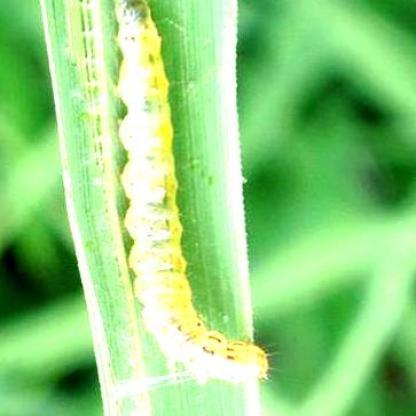leaf-folder: (82, 4, 284, 391)
